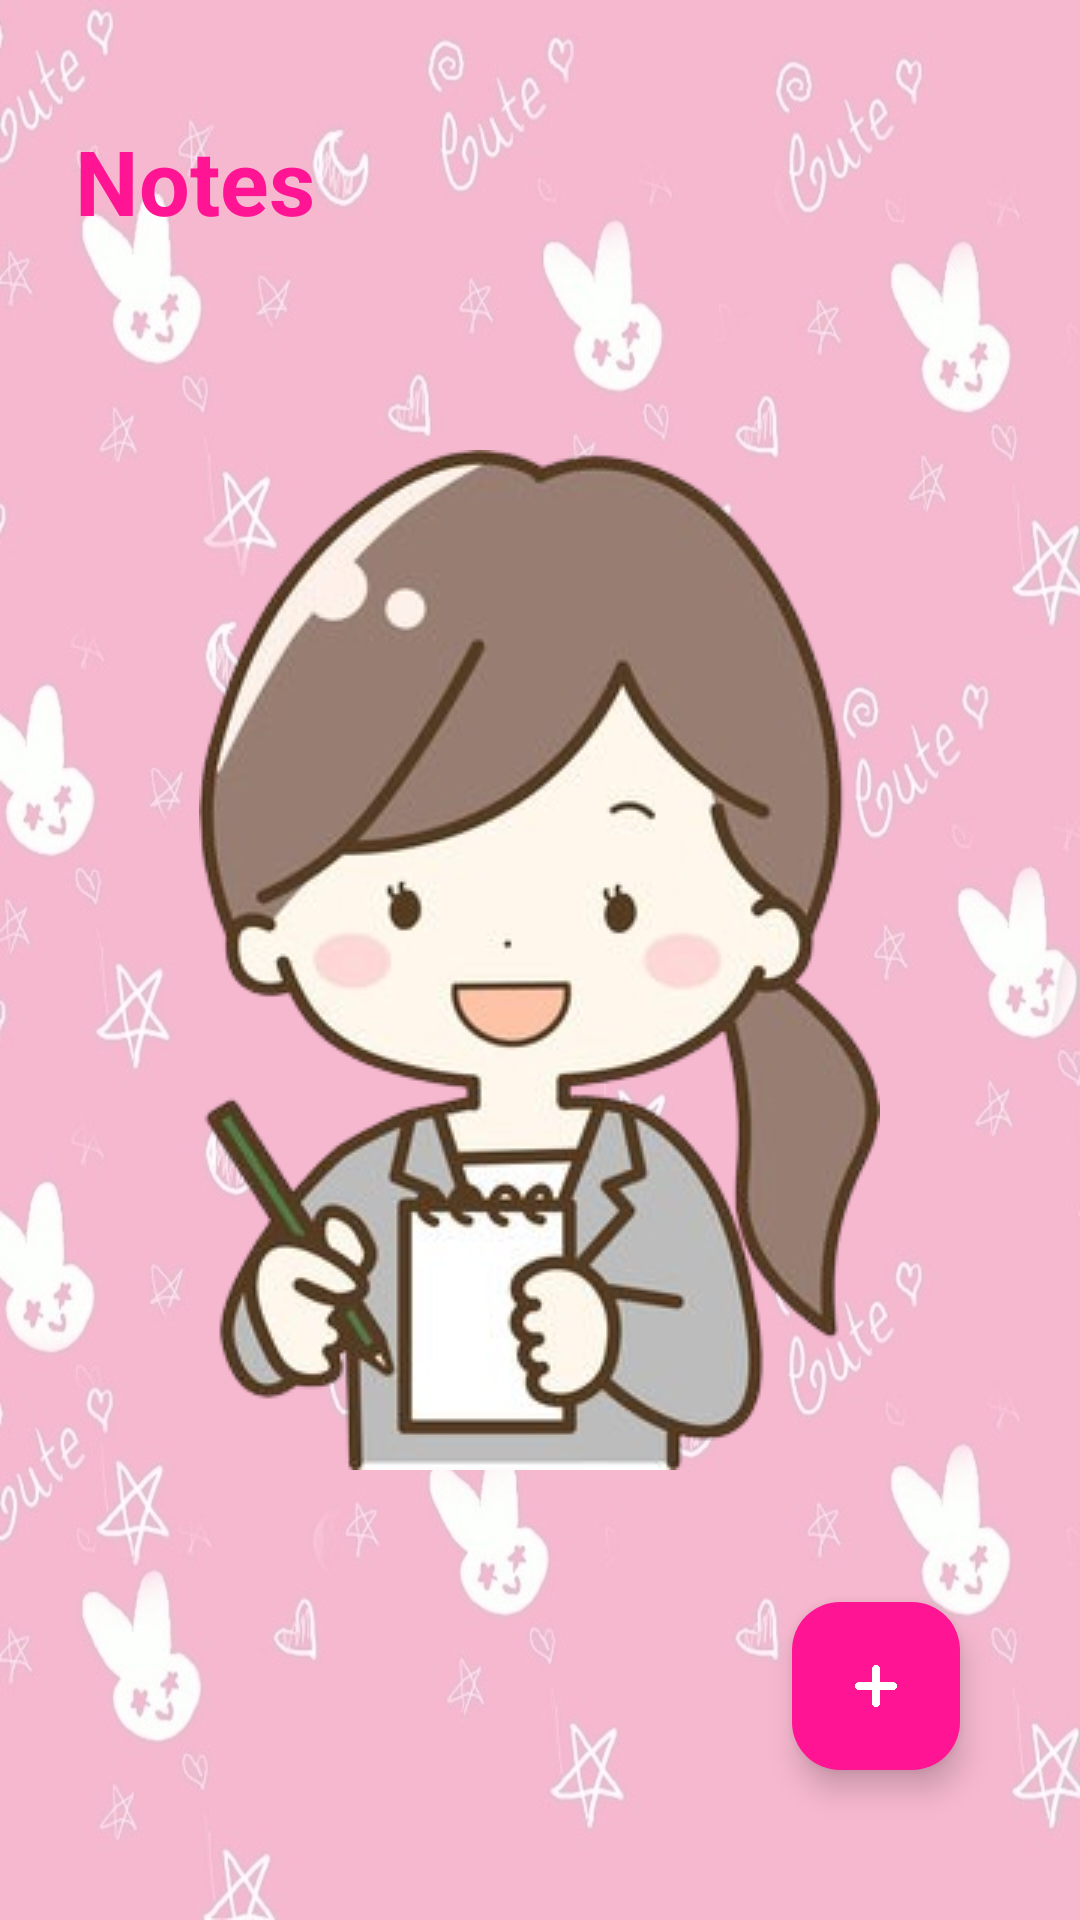

Icons on this 1080 x 1920 Android screen, each with the point to tap as point (x, y):
Add a new note: point (876, 1686)
